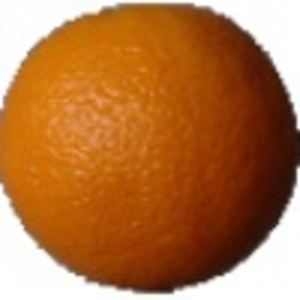laranja: (3, 3, 298, 298)
